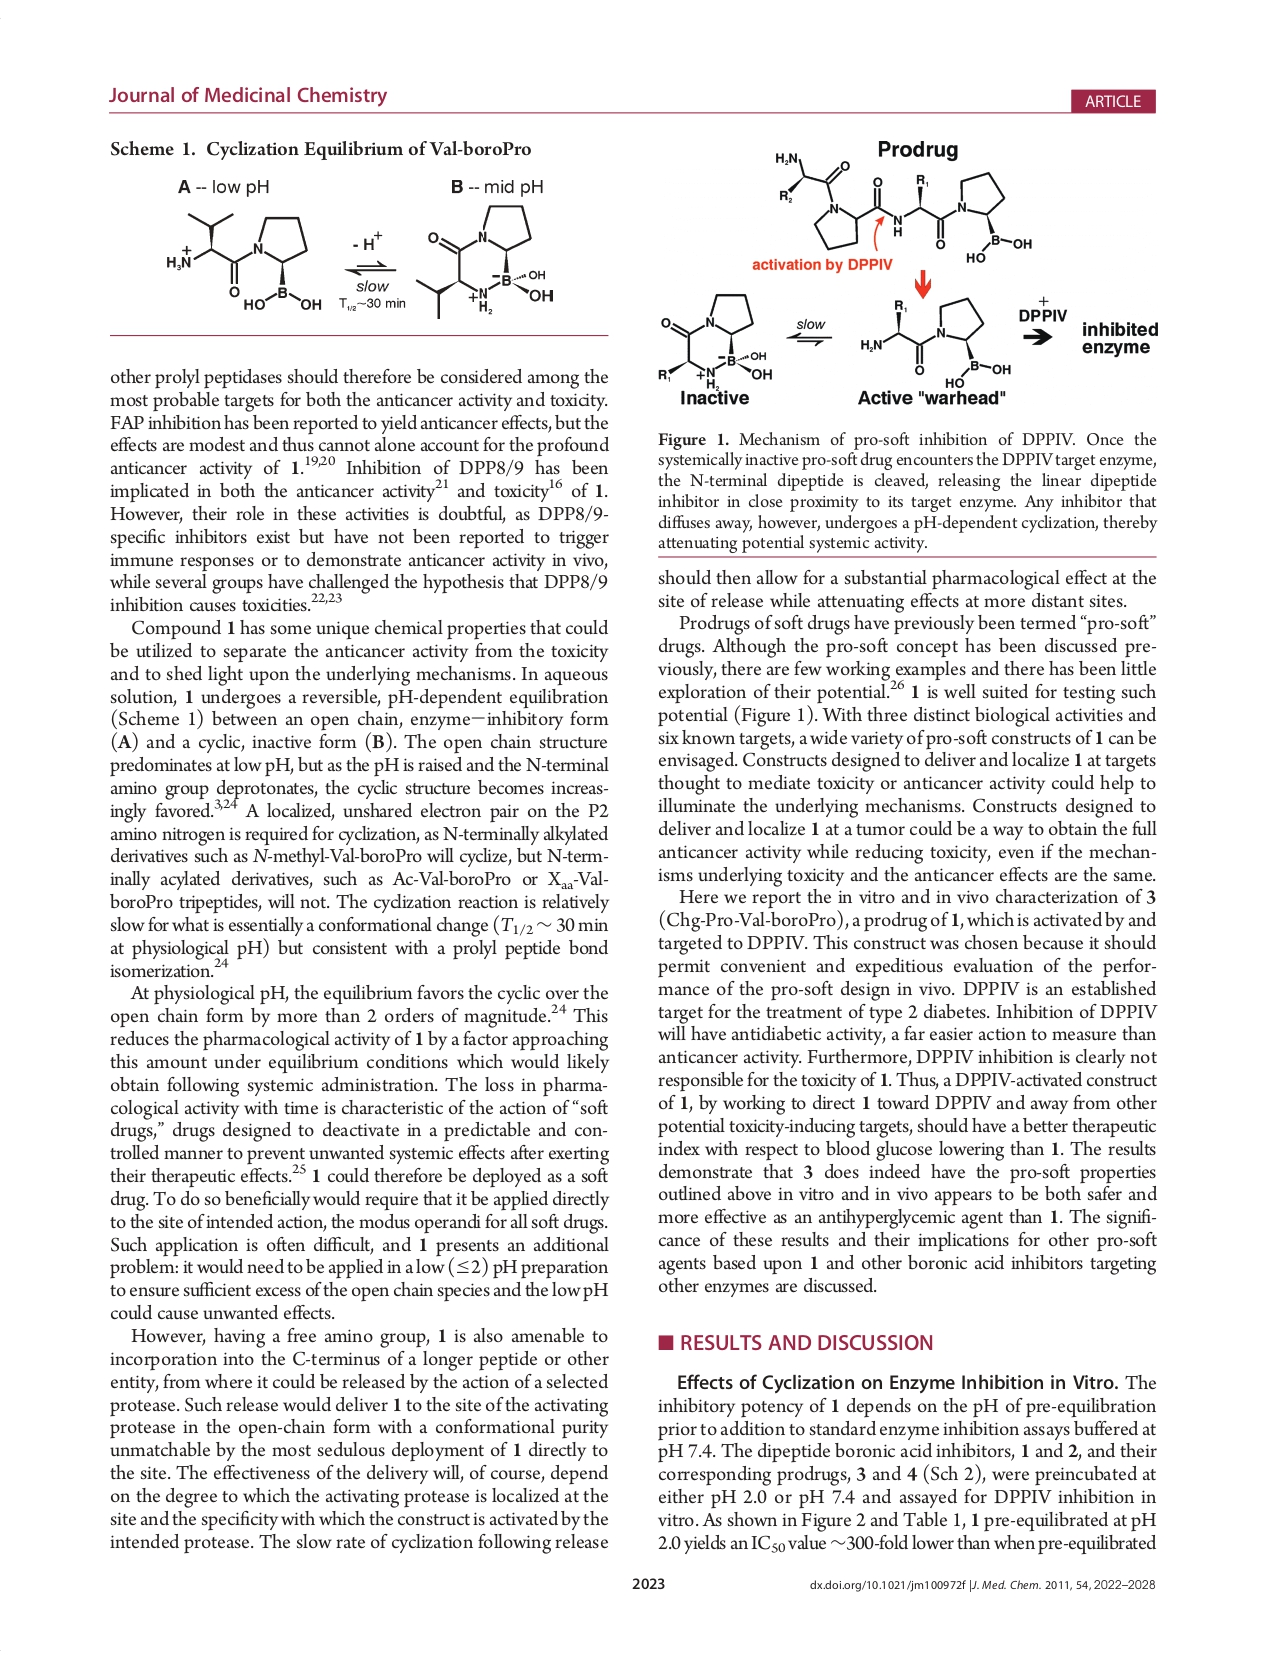exist_molecular: (771, 150, 1035, 266), (412, 198, 556, 323), (164, 207, 324, 317), (856, 297, 1015, 388), (652, 289, 775, 391)
